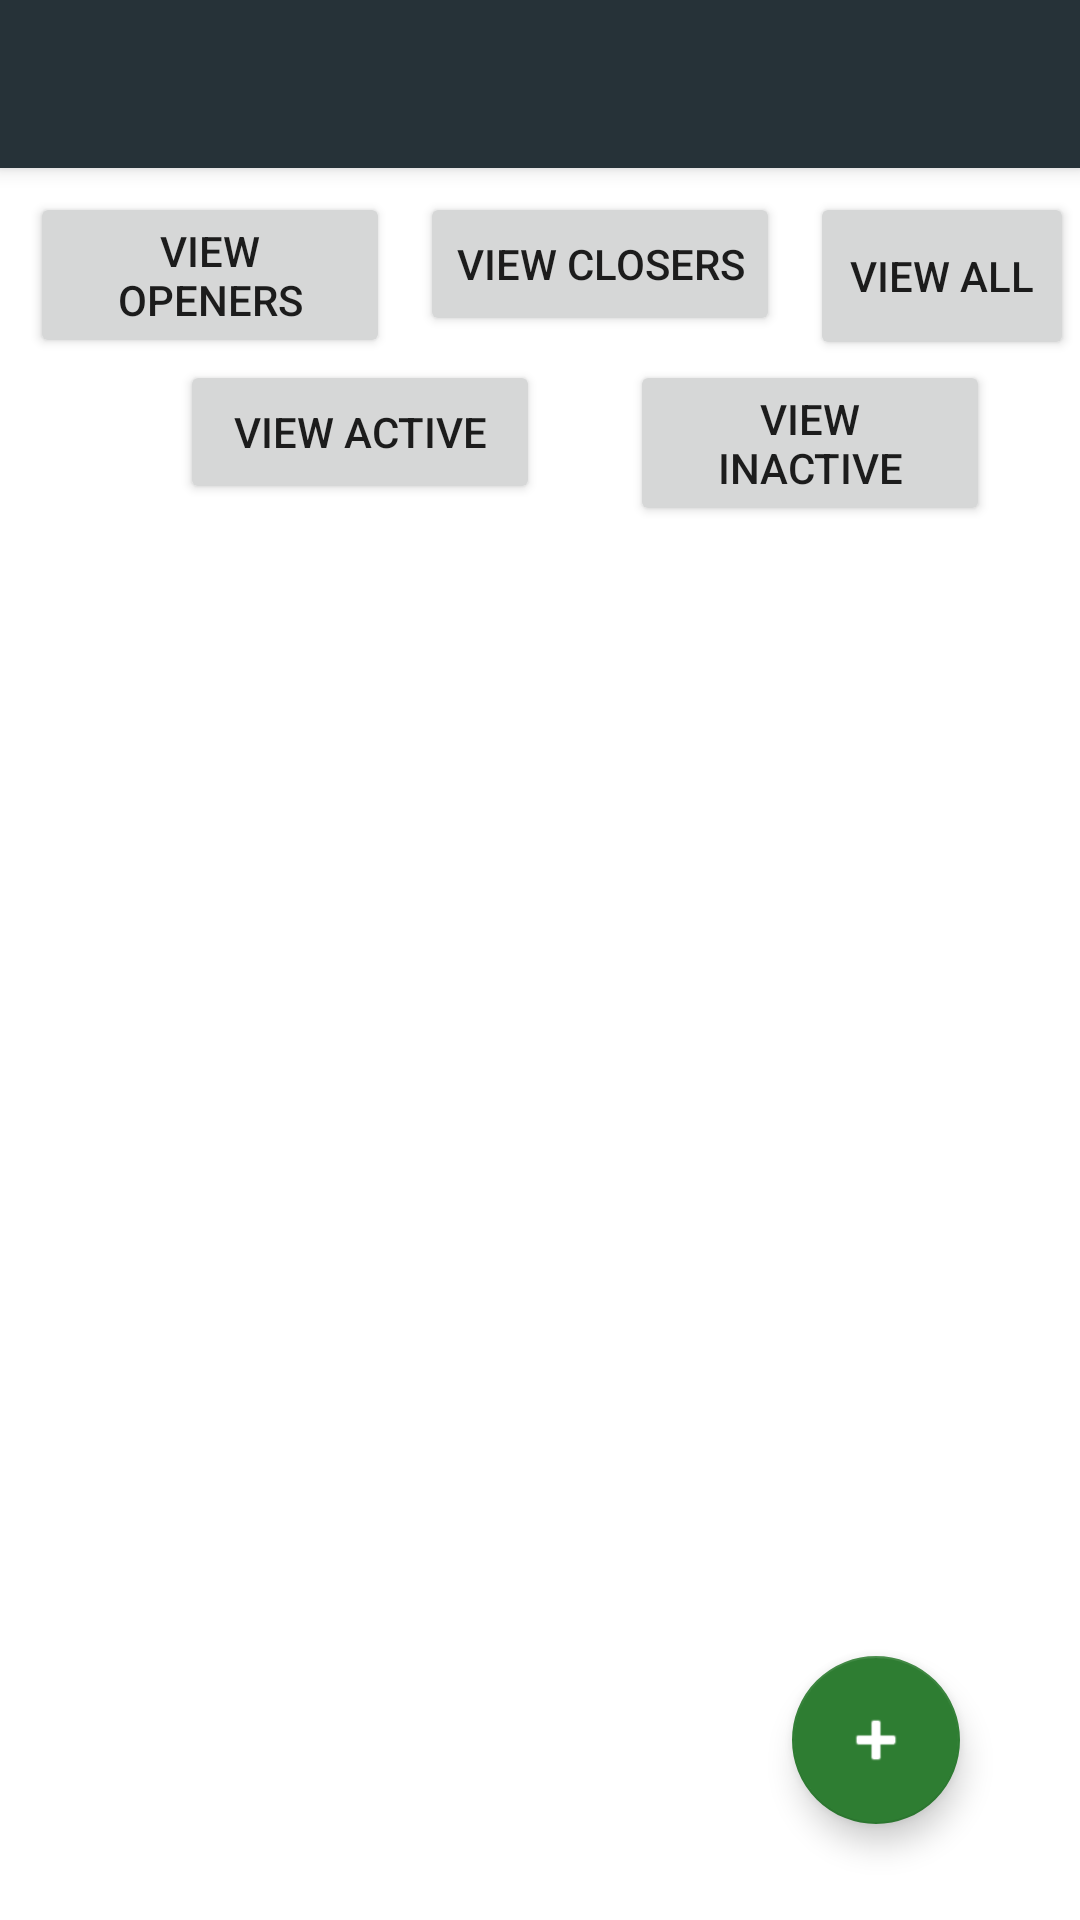

Screen size 1080px×1920px. Icon name, then its center in pixels as point (x, y):
add: point (876, 1740)
